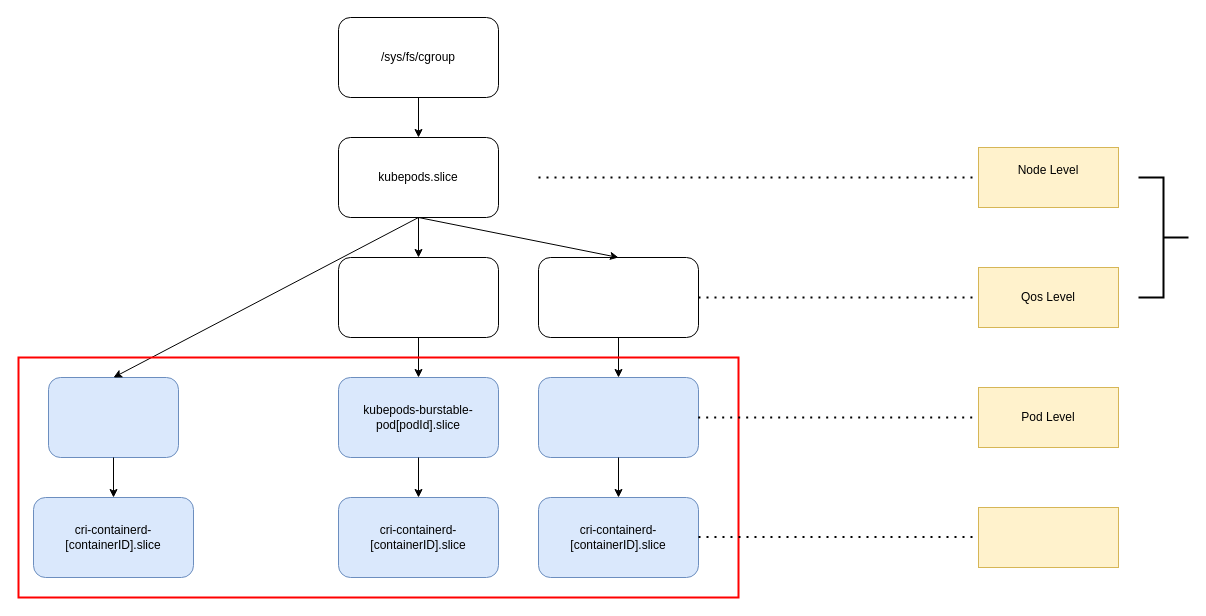
The diagram is 1206 pixels wide and 616 high, and some of its shapes have lost their labels. The shapes that lost their labels are listed below. From the top down, each one's centre as x and y in pixels, then its label:
At [418,297]: "kubepods-burstable.slice".
At [618,297]: "kubepods-besteffort.slice".
At [113,417]: "kubepods-[podId].slice".
At [618,417]: "kubepods-besteffort-pod[podId].slice".
At [1048,537]: "Container Level".
